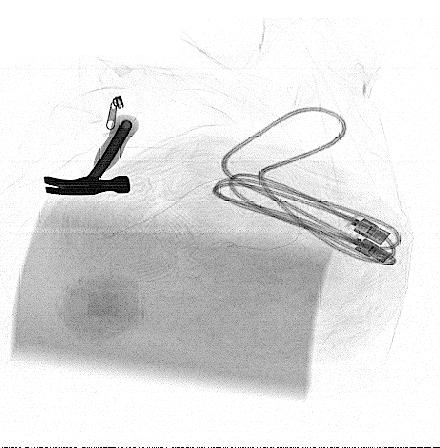Hammer: (43, 113, 141, 196)
